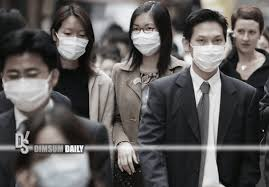surgical: (2, 79, 53, 111), (189, 43, 226, 76), (54, 34, 91, 61), (129, 29, 163, 57)
